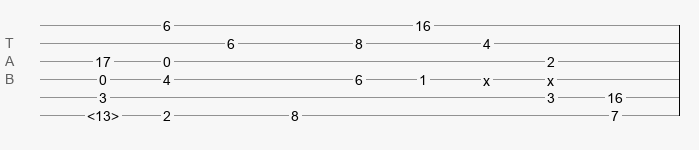0: (99, 72, 107, 82), (163, 54, 171, 64)
1: (419, 72, 427, 82)
16: (415, 18, 431, 28), (607, 90, 623, 100)
17: (95, 54, 111, 64)
2: (163, 108, 171, 118), (547, 54, 555, 64)
3: (99, 90, 107, 100), (547, 90, 555, 100)
4: (163, 72, 171, 82), (483, 36, 491, 46)
6: (163, 18, 171, 28), (227, 36, 235, 46), (355, 72, 363, 82)
7: (611, 108, 619, 118)
8: (291, 108, 299, 118), (355, 36, 363, 46)
harmonic: (87, 108, 119, 118)
x: (483, 73, 490, 81), (547, 73, 554, 81)
